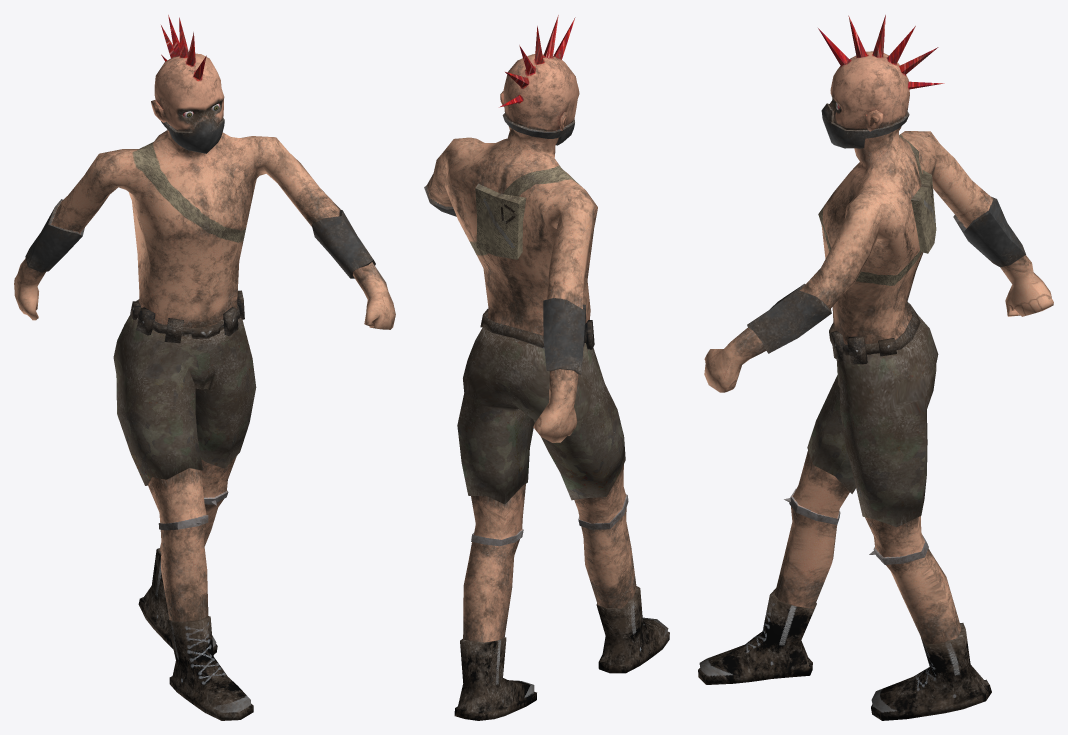
Rendered from Anim_andar_npc2.0024.obj.
The picture shows the model from 3 angles, left to right: view 1: azimuth 30°, elevation 25°; view 2: azimuth 150°, elevation 25°; view 3: azimuth 270°, elevation 25°; orthographic projection. The views are drawn at different scales.
Parts seen in each view (by area): view 1: Anim_andar_npc2; view 2: Anim_andar_npc2; view 3: Anim_andar_npc2.
Boxes of the visible parts, bbox=[...] form: Anim_andar_npc2: bbox=[14, 15, 395, 720]; Anim_andar_npc2: bbox=[424, 15, 669, 720]; Anim_andar_npc2: bbox=[698, 15, 1053, 720].
Bounding box in the file's own units: 3.95 × 10.19 × 4.77.
